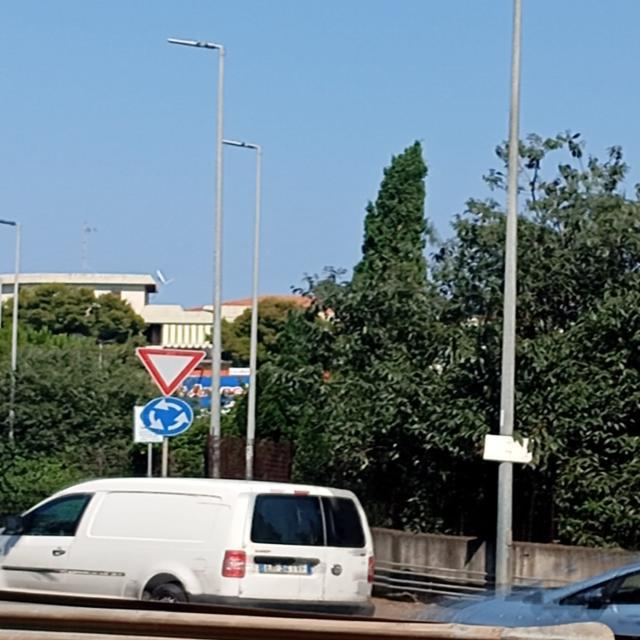prio_give_way: (132, 343, 210, 398)
